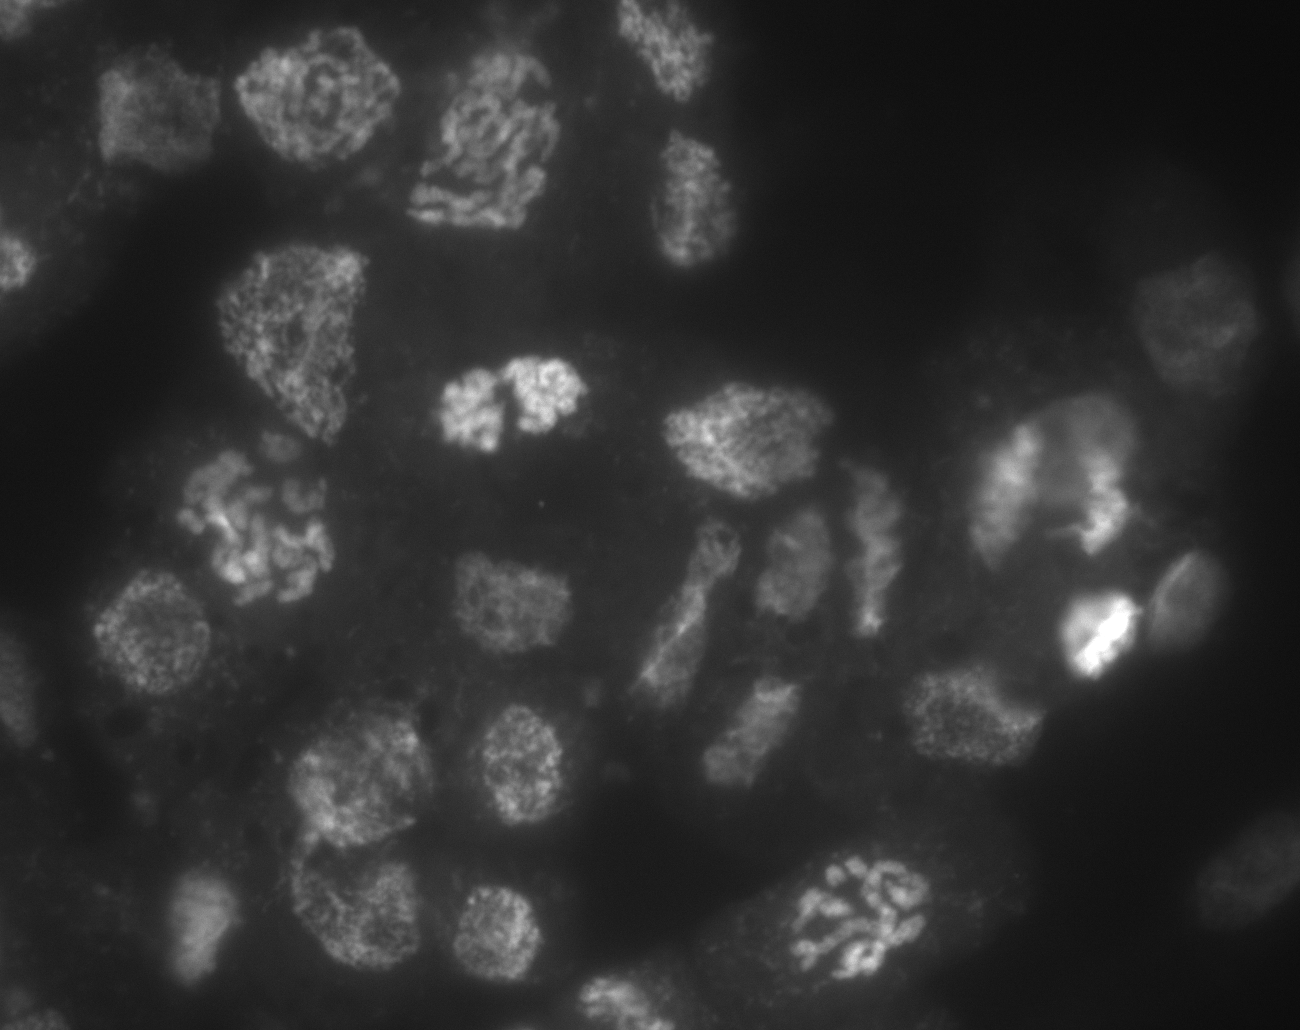Chromosomes: (745, 836, 973, 1011), (148, 451, 351, 625), (362, 28, 540, 222)
Others: (909, 357, 1257, 670), (173, 224, 378, 475), (938, 347, 1182, 539), (1082, 233, 1289, 424), (47, 36, 231, 223), (251, 1, 431, 192), (180, 9, 357, 201), (129, 835, 317, 1012), (858, 642, 1073, 796), (645, 344, 844, 510), (607, 87, 769, 287), (1146, 774, 1300, 983), (238, 244, 412, 425), (389, 844, 563, 1010), (422, 515, 604, 666), (272, 834, 439, 996), (386, 310, 565, 455)
